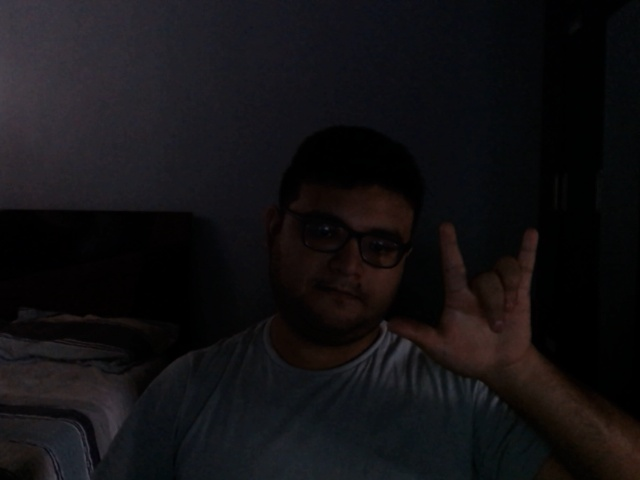I love you: (386, 218, 544, 388)
